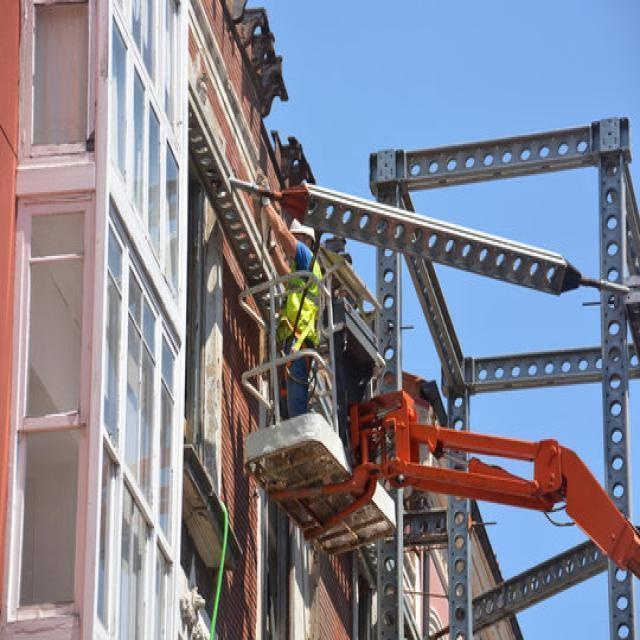Arnes_seguridad: (281, 311, 315, 385)
